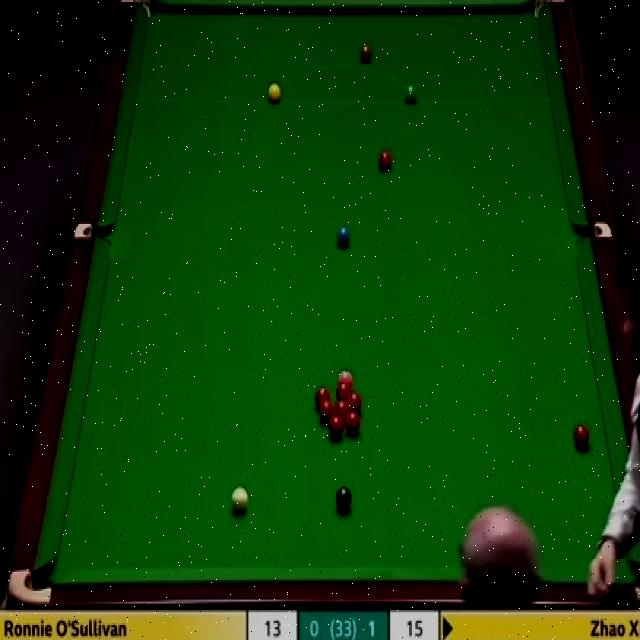black-ball: (335, 486, 352, 512)
blue-ball: (335, 224, 350, 248)
brown-ball: (360, 42, 373, 64)
green-ball: (403, 82, 417, 104)
pink-ball: (336, 367, 354, 382)
red-ball: (573, 422, 590, 450), (327, 416, 345, 441), (346, 390, 364, 413), (313, 386, 331, 408), (335, 379, 352, 401), (346, 412, 361, 436), (318, 400, 334, 422), (377, 149, 392, 172), (334, 402, 350, 419)
white-ball: (230, 487, 248, 514)
yellow-ball: (267, 81, 282, 103)
